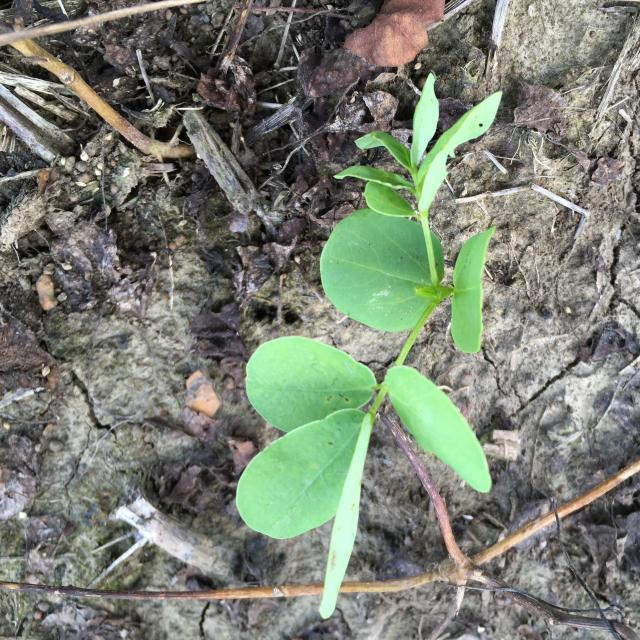Sicklepod: (236, 72, 502, 620)
